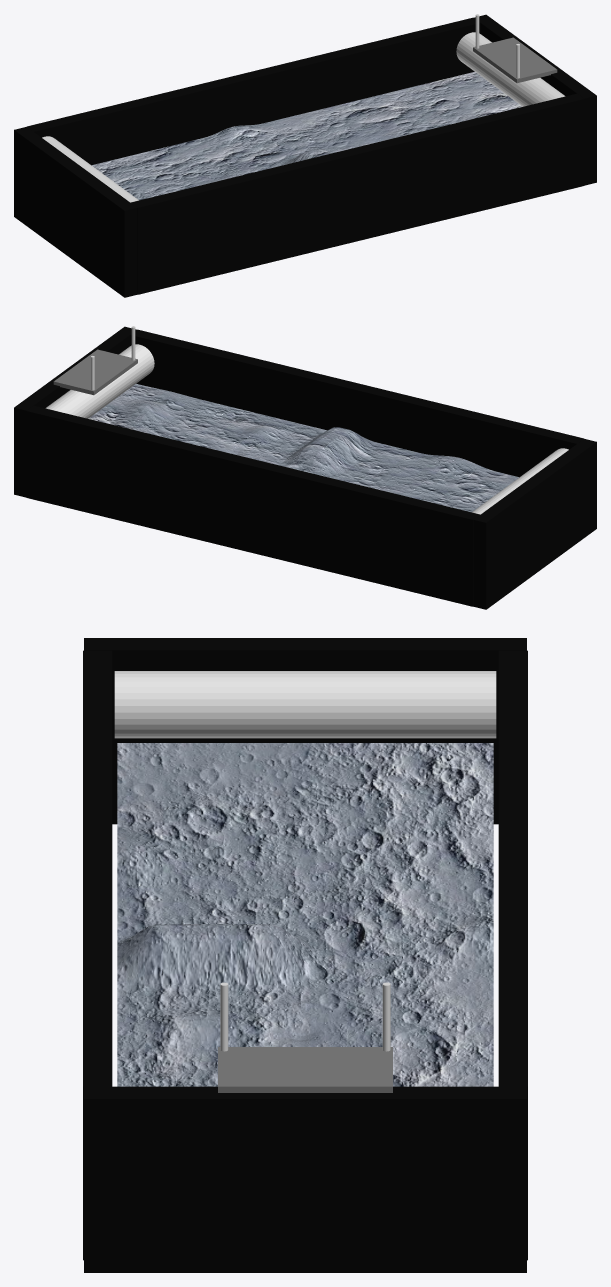
File: lunar_arena.dae
The picture shows the model from 3 angles, top to bottom: view 1: azimuth 30°, elevation 25°; view 2: azimuth 150°, elevation 25°; view 3: azimuth 270°, elevation 25°; orthographic projection. The views are drawn at different scales.
Parts seen in each view (by area): view 1: Cube.005, Cube.001, Plane.002, Cube.002, Cube.003, Cylinder.001, Cube.004, Cylinder; view 2: Cube.001, Cube.005, Plane.002, Cube.002, Cube.003, Cylinder.001, Cube.004, Cylinder; view 3: Plane.002, Cube.003, Cylinder, Cube.002, Cube.001, Cube.005, Cube.004.
Part boxes in pixels (bbox=[...]): Cube.005: bbox=[131, 93, 584, 294]; Cube.001: bbox=[27, 17, 480, 165]; Plane.002: bbox=[92, 71, 522, 200]; Cube.002: bbox=[14, 127, 137, 297]; Cube.003: bbox=[474, 14, 596, 185]; Cylinder.001: bbox=[456, 32, 565, 106]; Cube.004: bbox=[473, 37, 557, 83]; Cylinder: bbox=[42, 136, 138, 202]; Cube.001: bbox=[26, 405, 479, 606]; Cube.005: bbox=[130, 329, 583, 477]; Plane.002: bbox=[88, 383, 518, 512]; Cube.002: bbox=[473, 439, 596, 609]; Cube.003: bbox=[14, 326, 136, 497]; Cylinder.001: bbox=[45, 344, 154, 418]; Cube.004: bbox=[53, 349, 137, 395]; Cylinder: bbox=[472, 448, 568, 514]; Plane.002: bbox=[117, 743, 493, 1086]; Cube.003: bbox=[84, 1086, 526, 1272]; Cylinder: bbox=[114, 671, 496, 738]; Cube.002: bbox=[84, 638, 526, 824]; Cube.001: bbox=[498, 650, 527, 1260]; Cube.005: bbox=[83, 650, 112, 1260]; Cube.004: bbox=[218, 1047, 392, 1092].
Size of the model in its own units: 7.27 by 2.97 by 1.81.
Materials: 6 (1 with a texture image).
